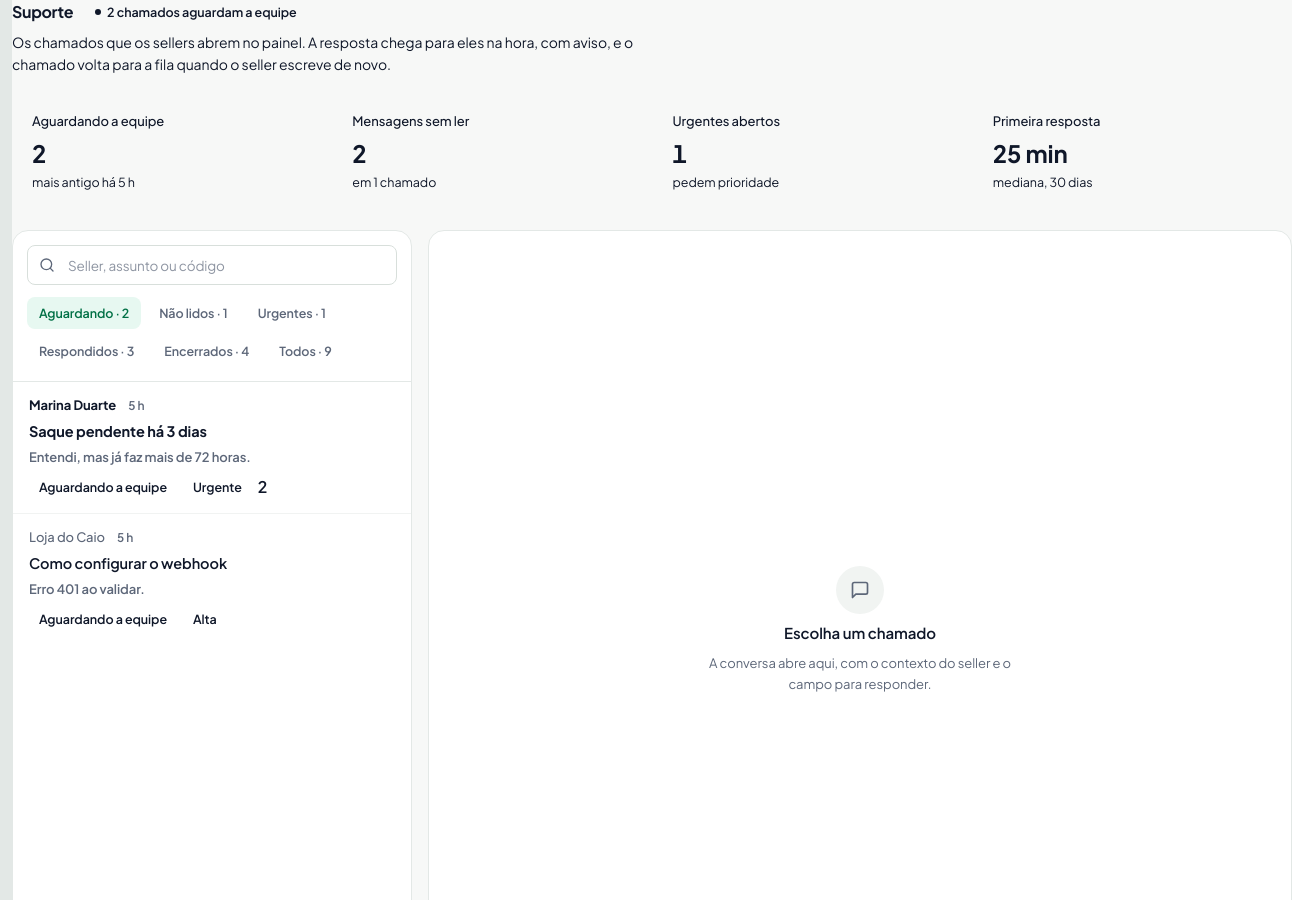
Test: Suporte do admin › abrir o chamado carrega a conversa e marca como lido uma vez
The width and height of the screenshot is (1292, 900).
Click the button "Saque pendente há 3 dias": [212, 448] box [13,382,411,513]
(page scrolled)
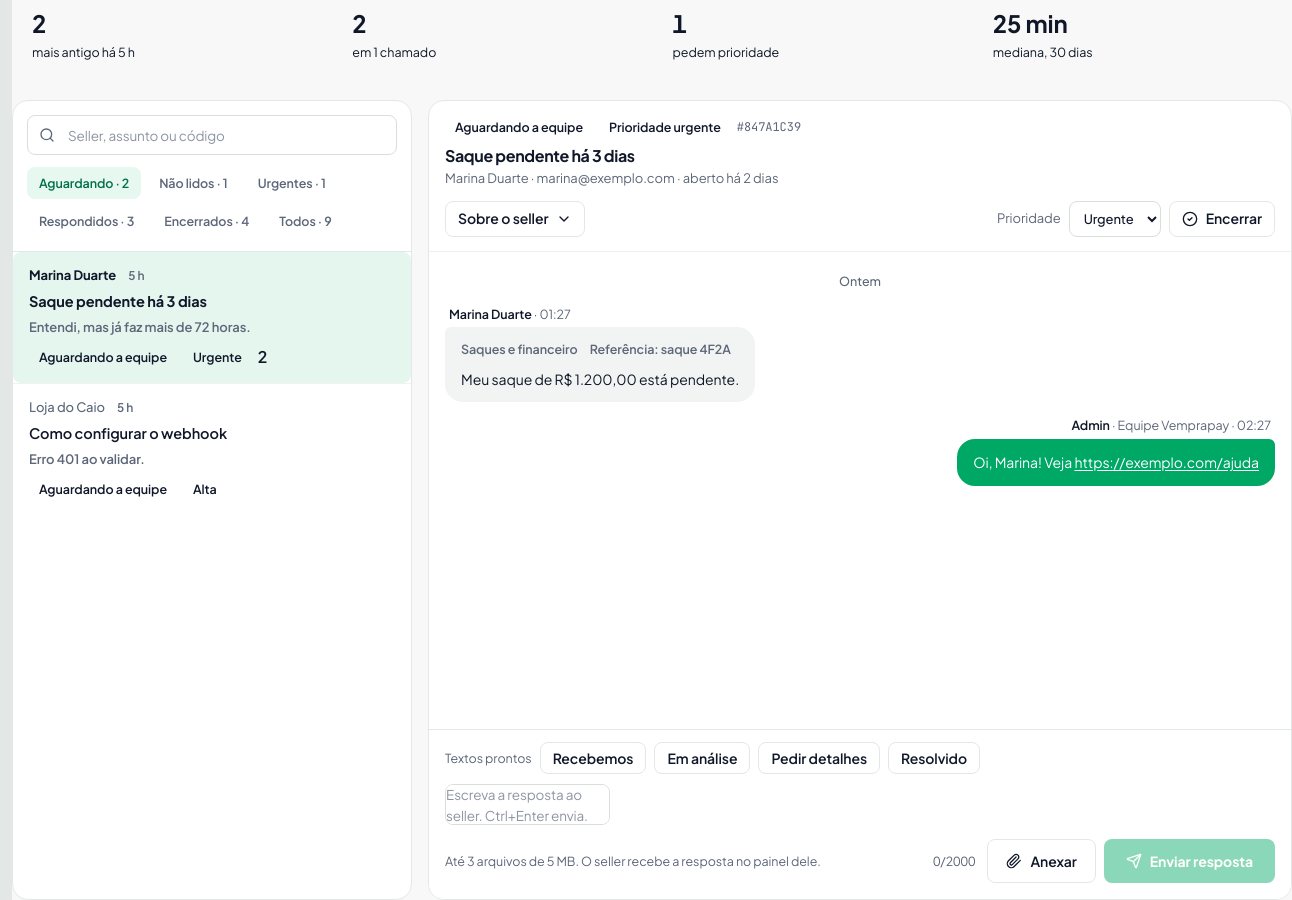
Now the element named "Mensagens do chamado" is shown, box [445,273,1275,486]
Now the text "Referência: saque 4F2A" is shown, box [590,339,731,360]
Now the text "Meu saque de R$ 1.200,00" is shown, box [461,370,739,388]
